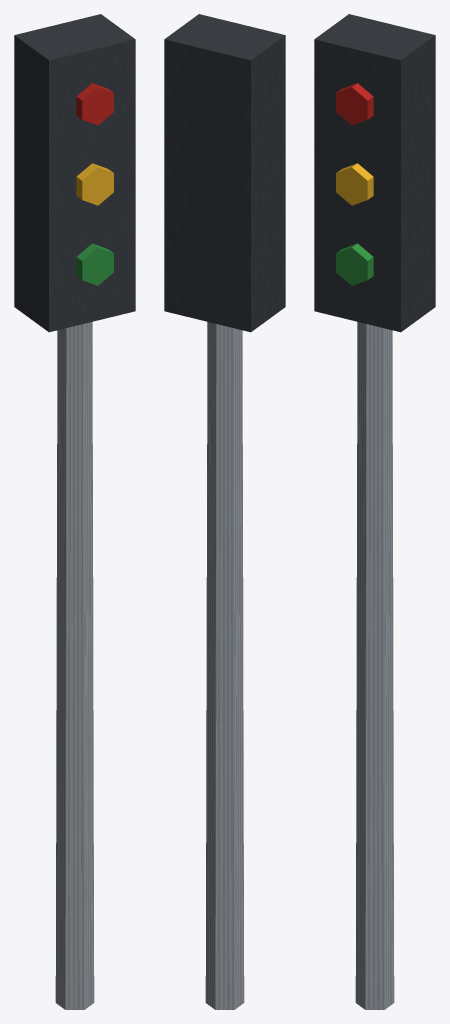
File: traffic-signals-lod0.glb
The picture shows the model from 3 angles, left to right: view 1: azimuth 30°, elevation 25°; view 2: azimuth 150°, elevation 25°; view 3: azimuth 330°, elevation 25°; orthographic projection.
Visible parts, largest first — view 1: traffic-signals-lod0; view 2: traffic-signals-lod0; view 3: traffic-signals-lod0.
Part boxes in pixels (<box>): traffic-signals-lod0: <box>14,14,135,1009</box>; traffic-signals-lod0: <box>164,14,285,1009</box>; traffic-signals-lod0: <box>314,14,435,1009</box>.
Size of the model in its own units: 0.26 by 2.77 by 0.21.
1 material, 1 textured.
